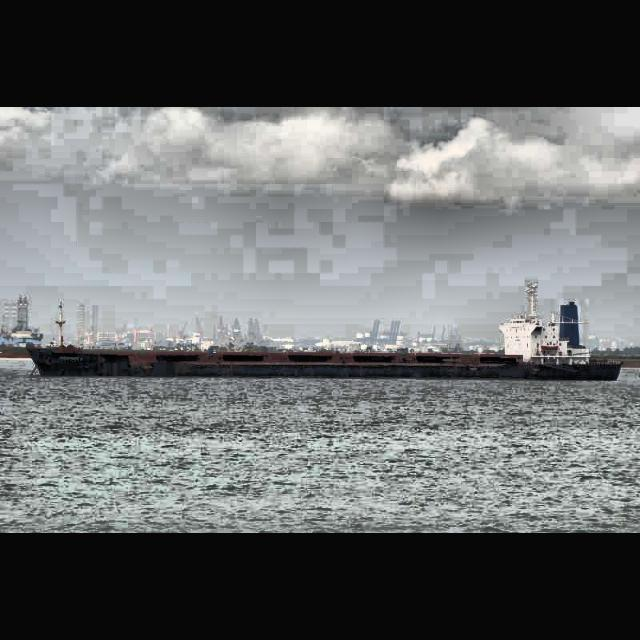bulk_carrier: (24, 290, 624, 382)
